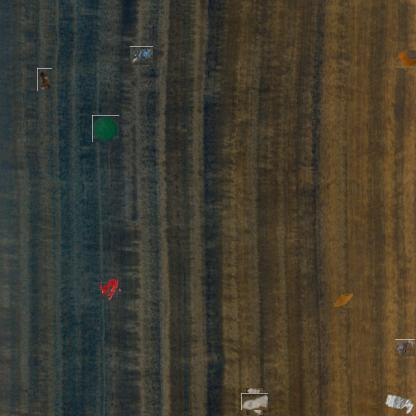dirty: (384, 392, 416, 416), (92, 115, 119, 142), (243, 390, 266, 413), (131, 45, 152, 67), (396, 49, 416, 69), (396, 338, 416, 357), (37, 68, 52, 91)
liquid: (100, 279, 120, 299), (333, 292, 353, 309)
